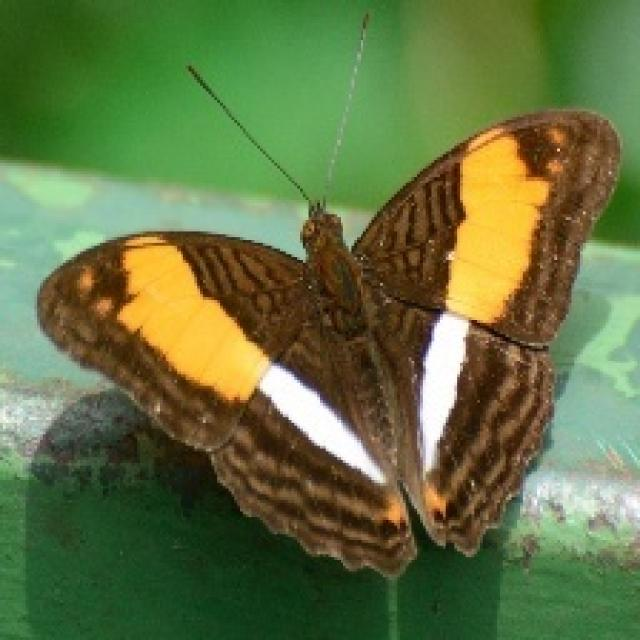butterfly: (31, 9, 620, 580)
